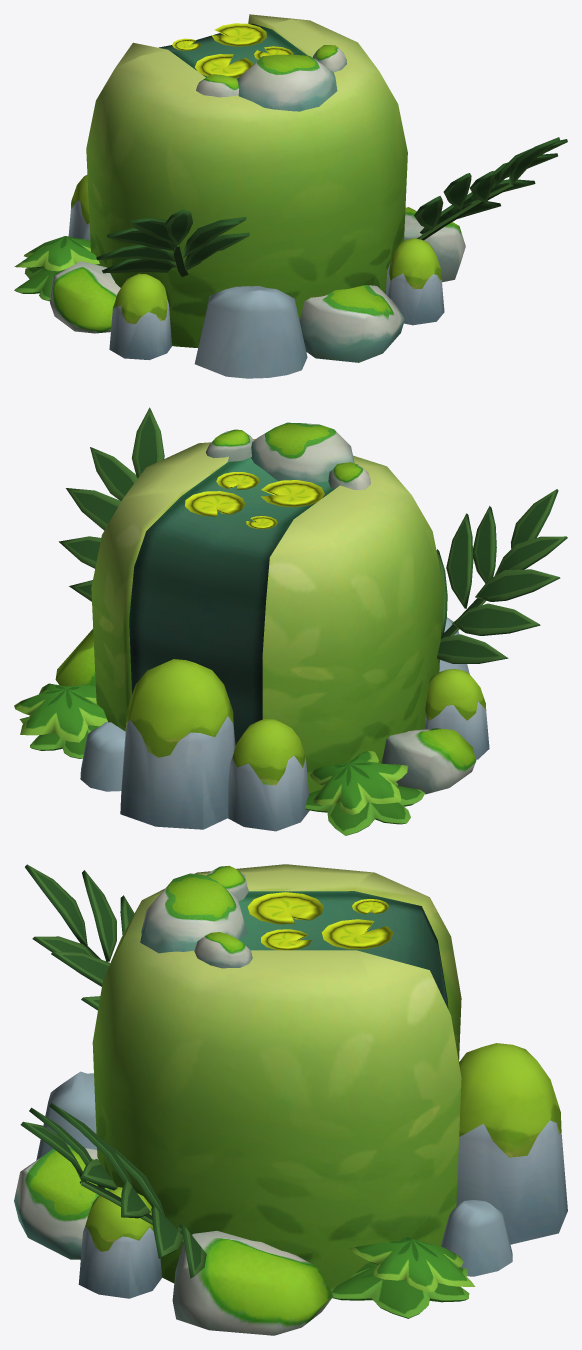
Rendered from PatsPondOdysseyStatue.fbx.
3 views of the same model, one above another, from view 1: azimuth 30°, elevation 25°; view 2: azimuth 150°, elevation 25°; view 3: azimuth 270°, elevation 25° (orthographic). The views are drawn at different scales.
Parts seen in each view (by area): view 1: PatsPondOdysseyStatue; view 2: PatsPondOdysseyStatue; view 3: PatsPondOdysseyStatue.
Part boxes in pixels (x1=…): PatsPondOdysseyStatue: x1=14, y1=14, x2=567, y2=378; PatsPondOdysseyStatue: x1=14, y1=407, x2=567, y2=835; PatsPondOdysseyStatue: x1=14, y1=864, x2=567, y2=1335.
Size of the model in its own units: 26.08 by 14.37 by 21.57.
